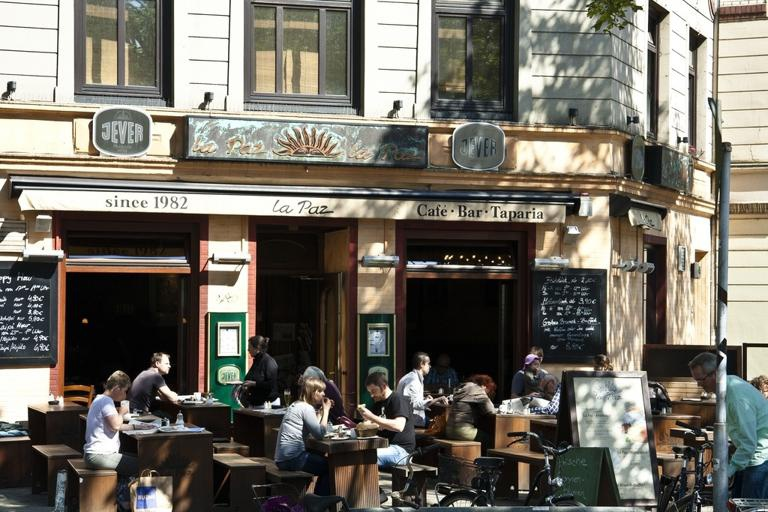non-vehicle: (430, 431, 585, 507), (303, 442, 438, 511), (657, 418, 734, 511)
